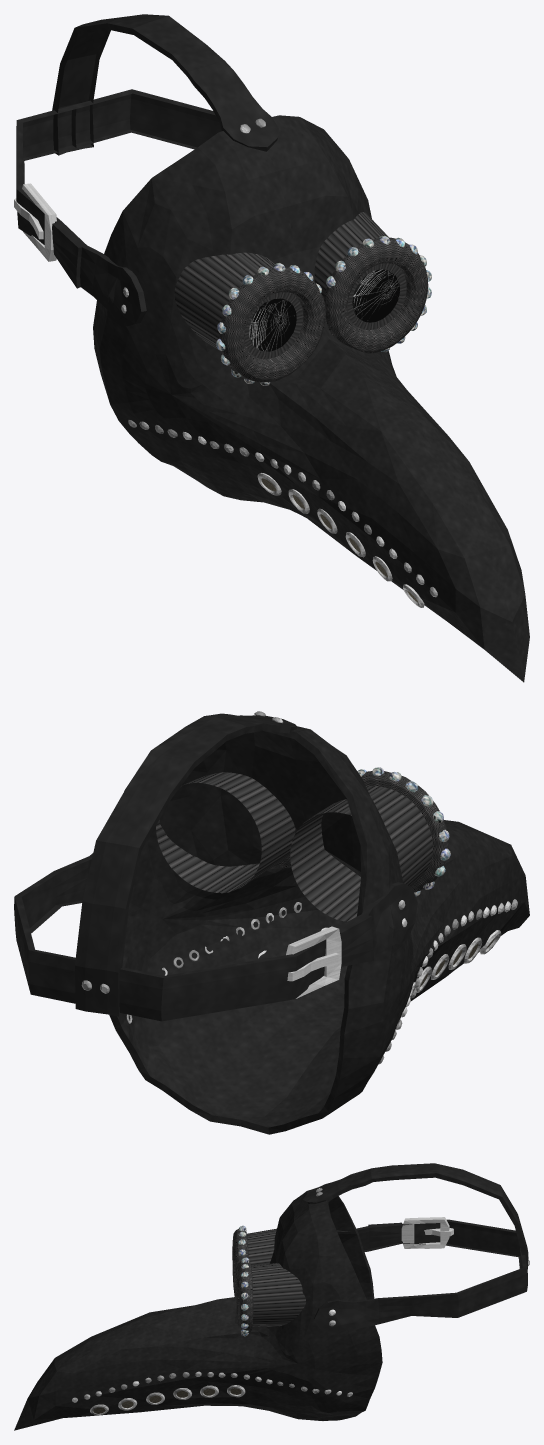
Rendered from mhw_elvs_plague_doctor_mask.glb.
3 renders of one model, top to bottom at view 1: azimuth 30°, elevation 25°; view 2: azimuth 150°, elevation 25°; view 3: azimuth 270°, elevation 25°, orthographic. The views are drawn at different scales.
Parts seen in each view (by area): view 1: mhw_elvs_plague_doctor_mask; view 2: mhw_elvs_plague_doctor_mask; view 3: mhw_elvs_plague_doctor_mask.
Part boxes in pixels (<box>): mhw_elvs_plague_doctor_mask: <box>14,14,529,682</box>; mhw_elvs_plague_doctor_mask: <box>14,711,529,1134</box>; mhw_elvs_plague_doctor_mask: <box>14,1163,529,1430</box>.
Bounding box in the file's own units: 0.1709 × 0.2558 × 0.4695.
1 material, 1 textured.
